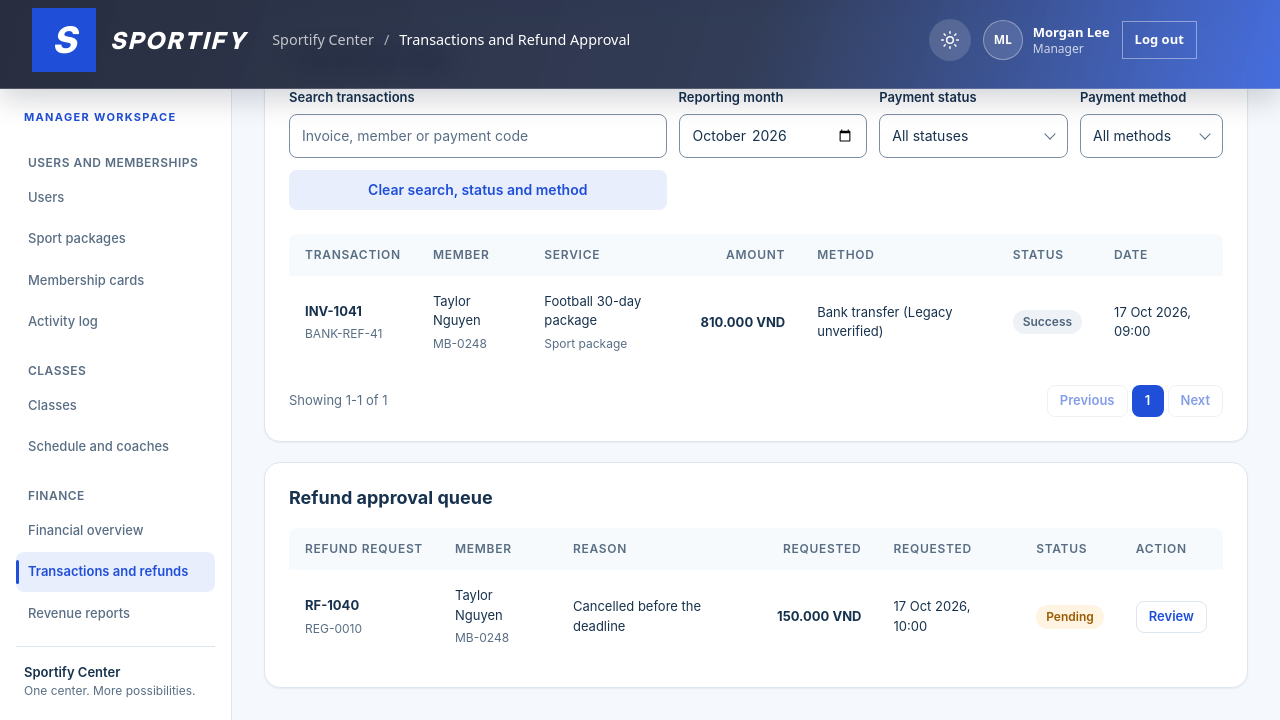
Test: FE-13 transaction ledger and refund review › requires a rejection note and renders the rejected outcome
(page scrolled)
Click the button with aria-label "Review refund RF-1040". click: {"x": 1171, "y": 617}
box: [1136,601,1207,633]
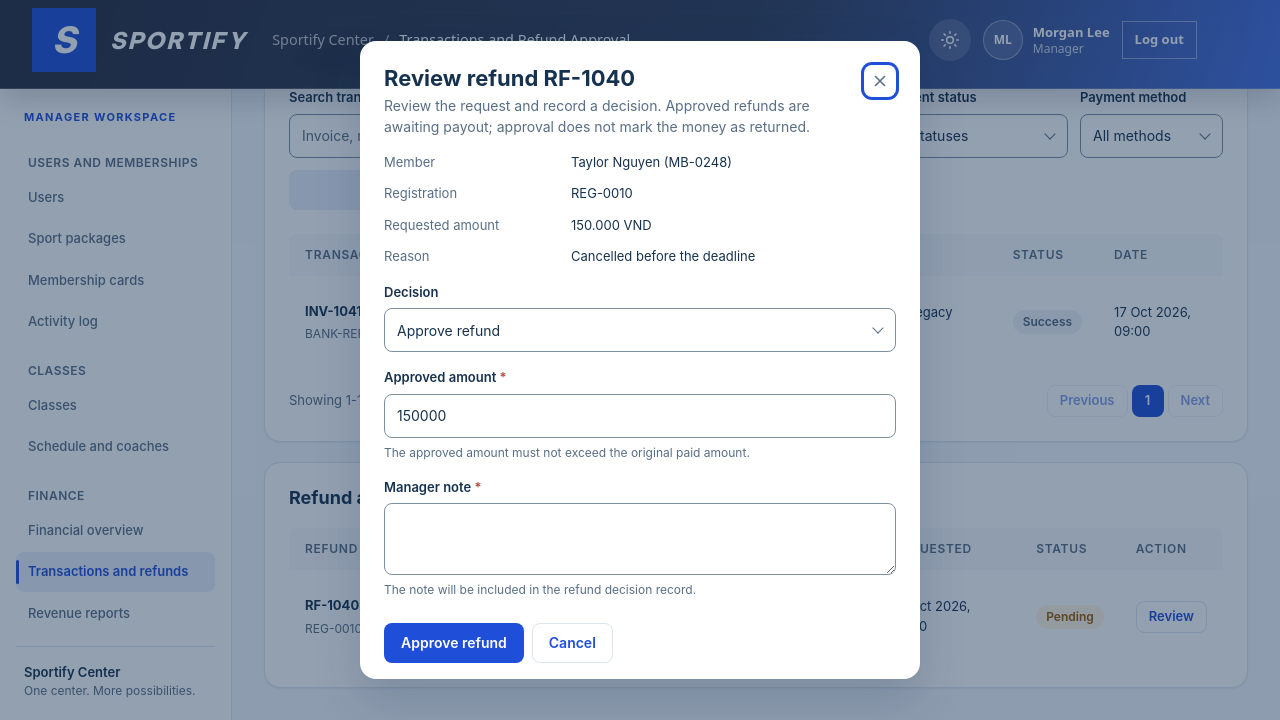
Select "Reject refund" in the dropdown labelled "Decision". click: {"x": 640, "y": 330}
box: [384,308,896,352]
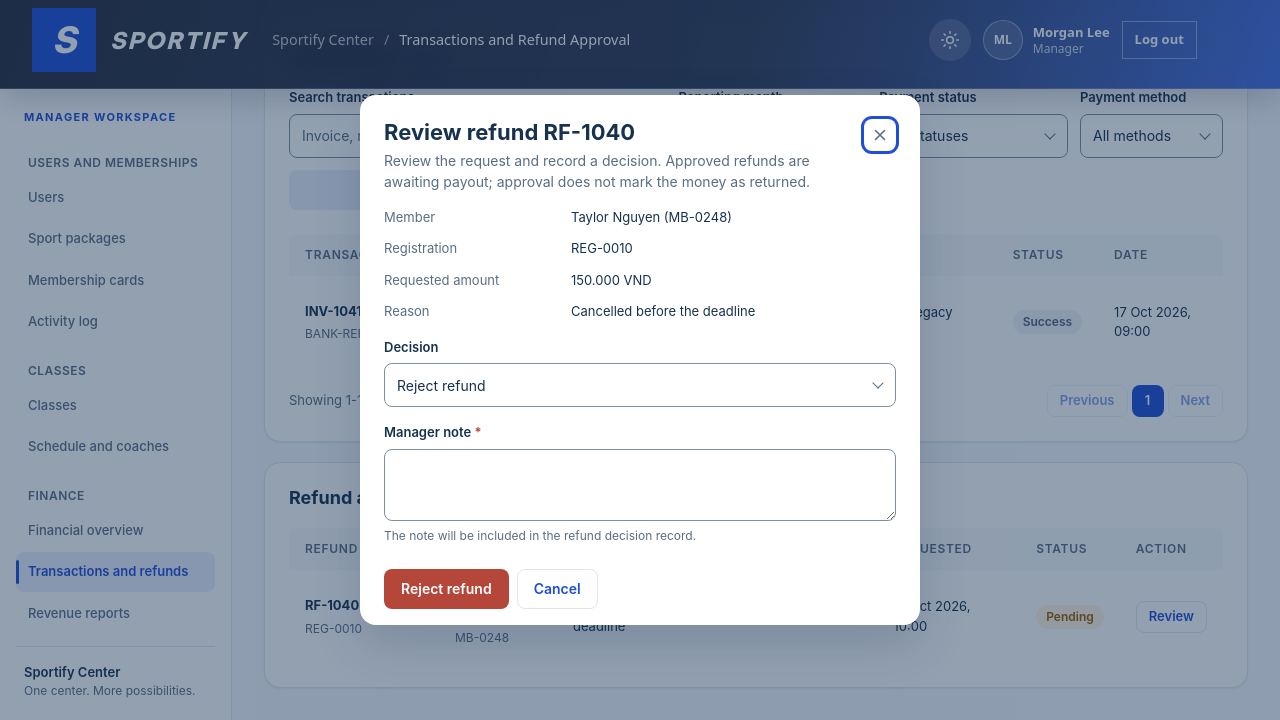
Click the button "Reject refund". click: {"x": 446, "y": 589}
box: [384,569,509,609]
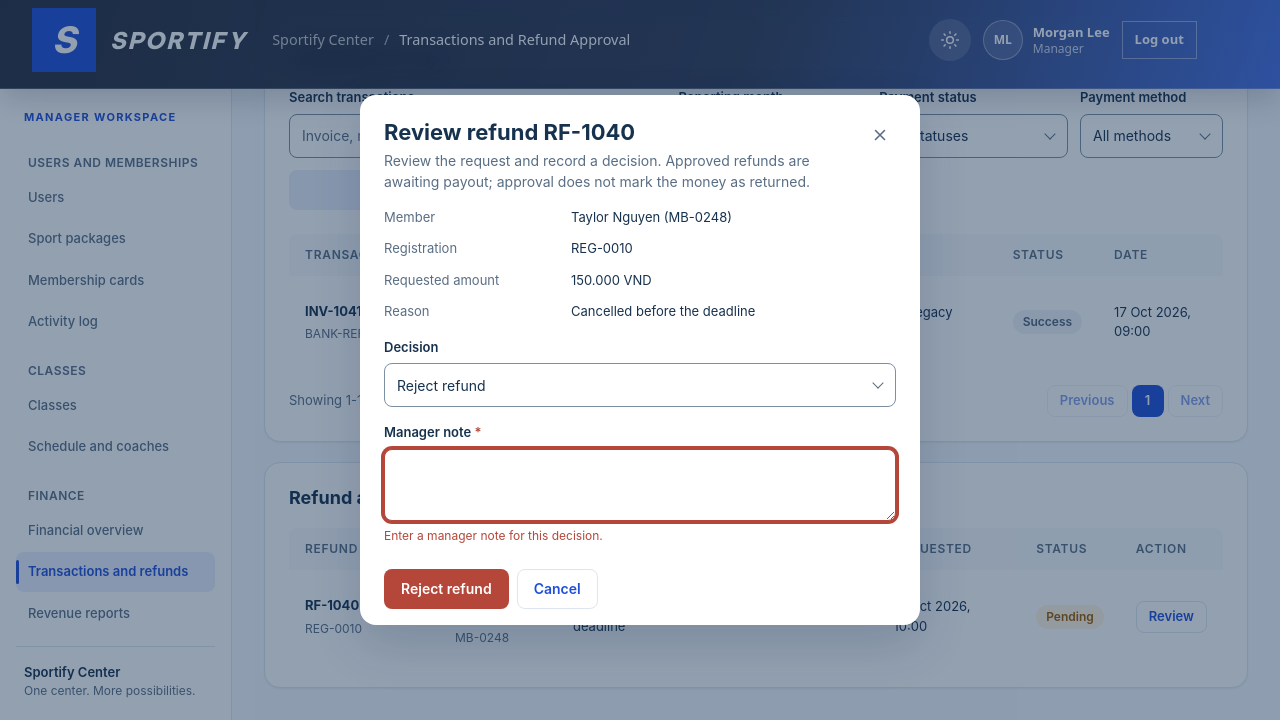
Expected: the text "Enter a manager note for this decision." is shown, [384,528,603,543]
Type "Request does not match the cancellation policy." into the text box labelled "Manager note *". click: {"x": 640, "y": 485}
box: [384,449,896,521]
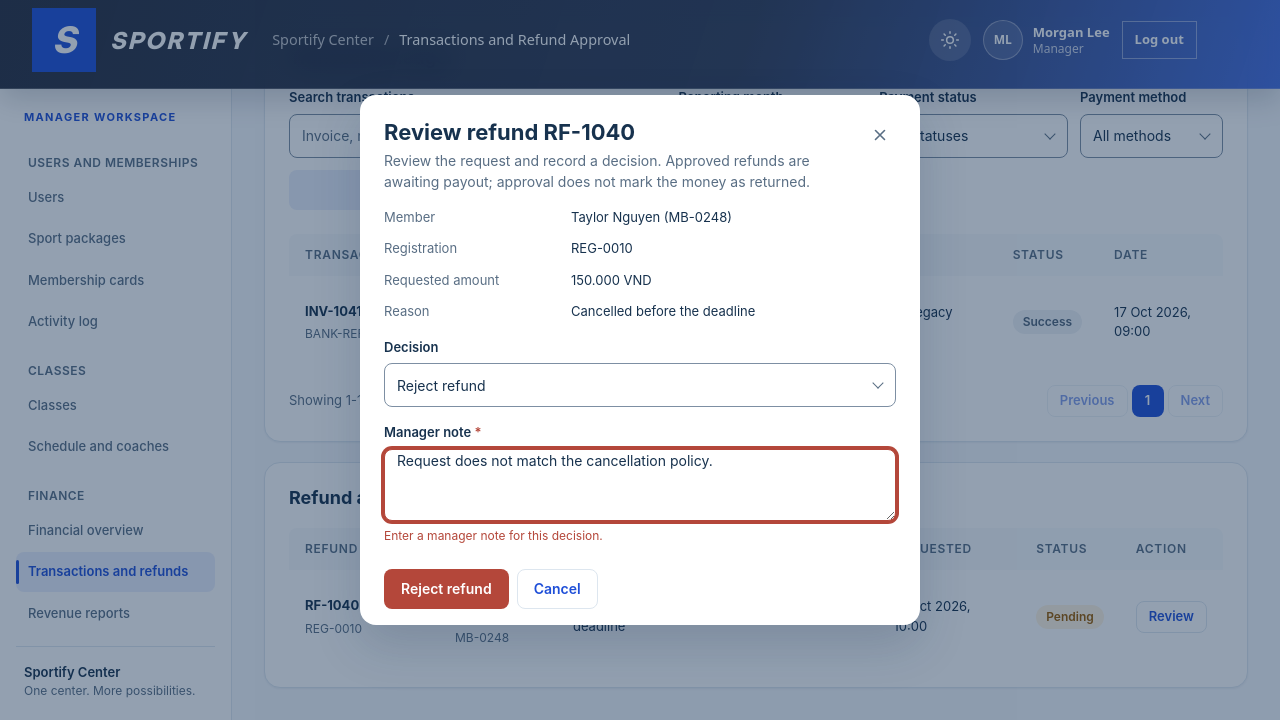
Click the button "Reject refund". click: {"x": 446, "y": 589}
box: [384,569,509,609]
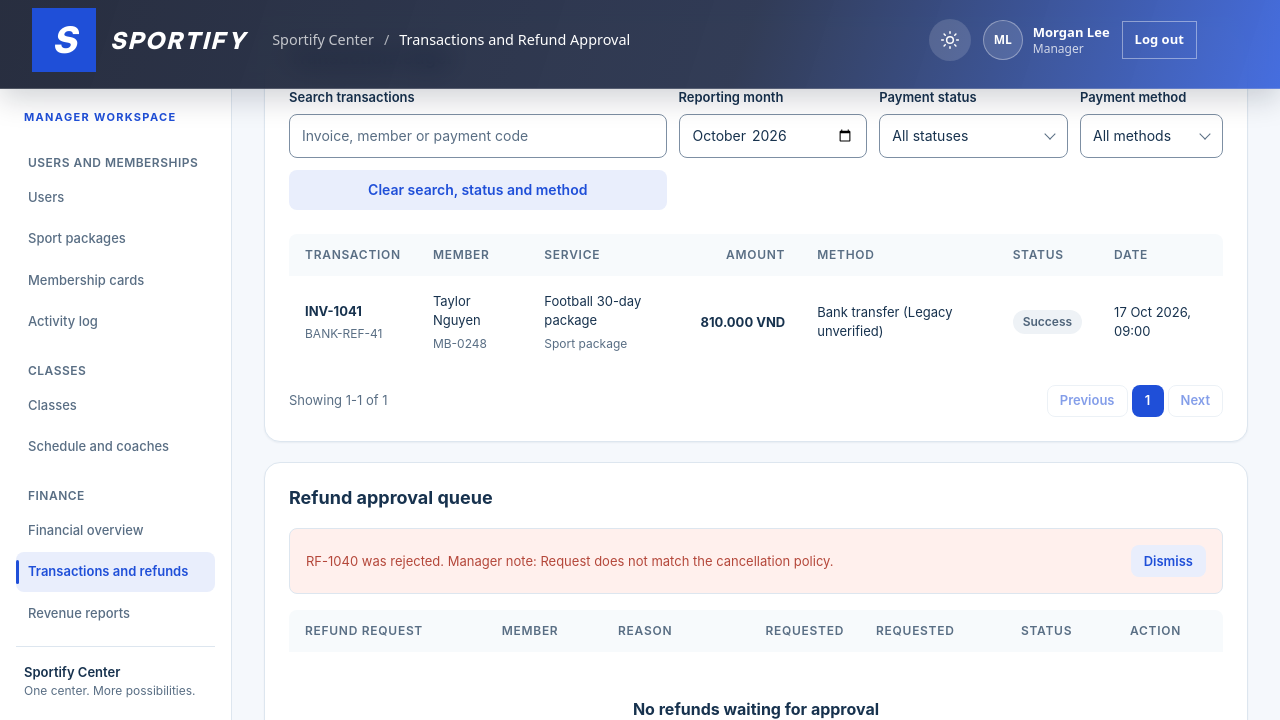
Expected: the text "RF-1040 was rejected. Manager note: Request does not match" is shown, [306,553,834,569]
